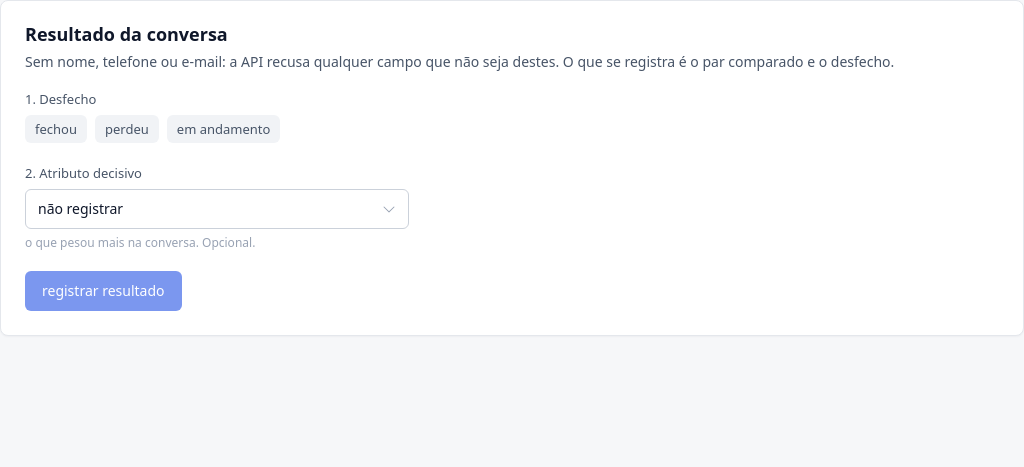
Test: resultado: três toques e nenhum campo de cliente › resultado: os motivos só aparecem quando o desfecho é perda
The width and height of the screenshot is (1024, 467).
Click the button "perdeu" at [127, 129], box [95, 115, 159, 143]
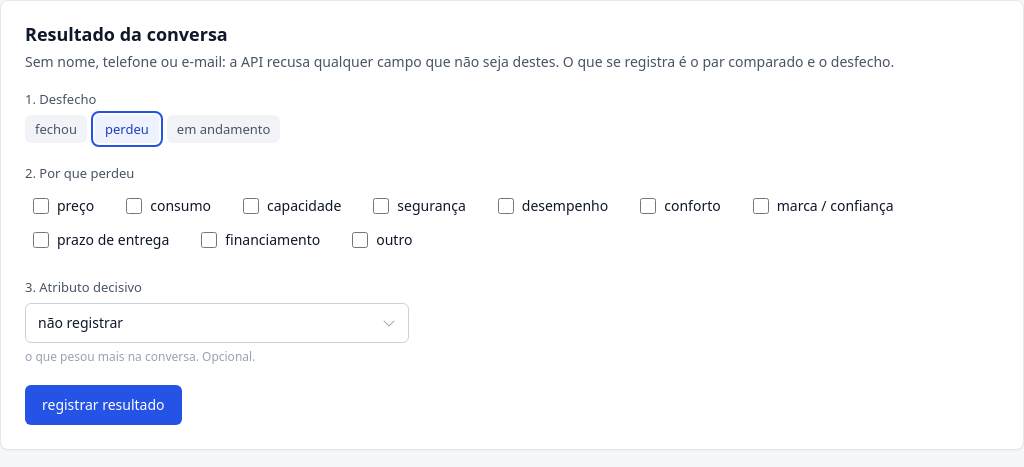
Result: the element with test id "motivos" is shown at [25, 163, 999, 257]
Click the button "fechou" at [56, 129], box [25, 115, 87, 143]
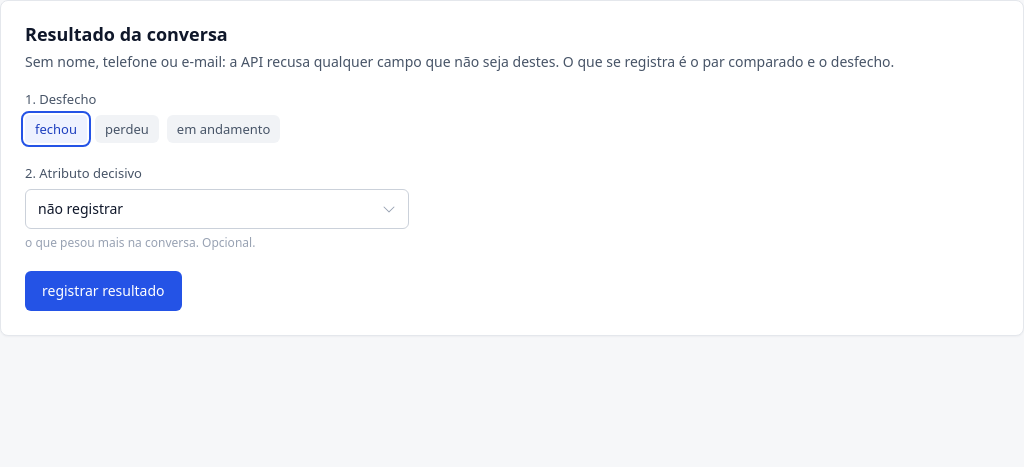
Result: the element with test id "motivos" is gone
